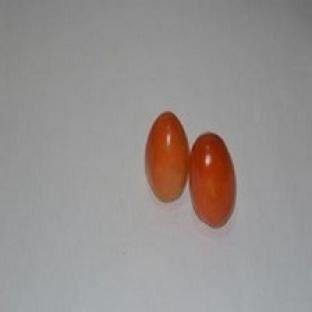Tomato: (190, 133, 236, 228), (145, 112, 189, 201)
